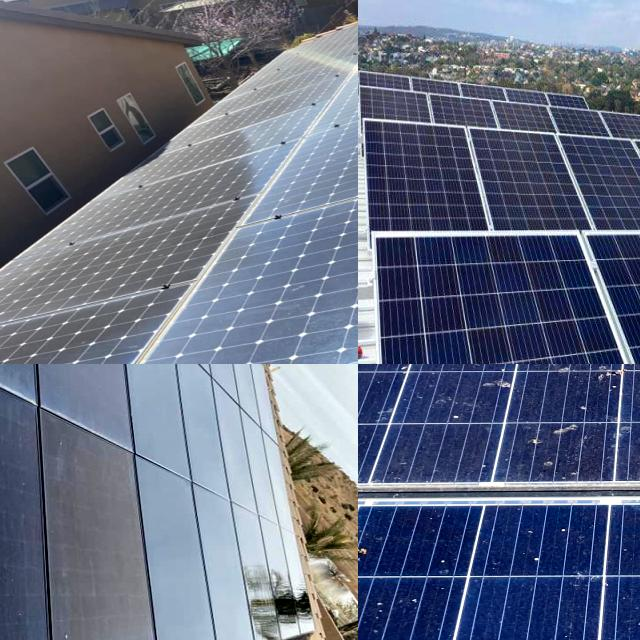crack: (376, 240, 640, 364), (462, 126, 602, 250), (359, 116, 492, 246), (550, 124, 640, 243), (426, 79, 504, 144), (358, 77, 434, 139), (480, 95, 570, 144)
dust: (105, 421, 358, 575), (183, 73, 358, 217), (358, 517, 553, 640), (0, 573, 358, 629), (484, 364, 640, 467), (137, 0, 358, 64), (366, 364, 455, 495), (0, 441, 114, 534), (561, 510, 640, 640), (0, 555, 111, 631), (481, 433, 640, 480), (458, 364, 640, 403), (0, 364, 98, 426), (170, 364, 358, 395)
